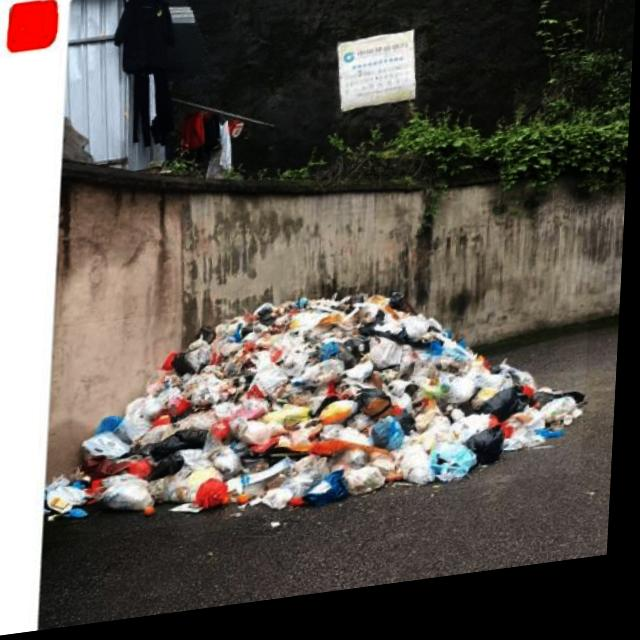garbage: (48, 274, 595, 545)
